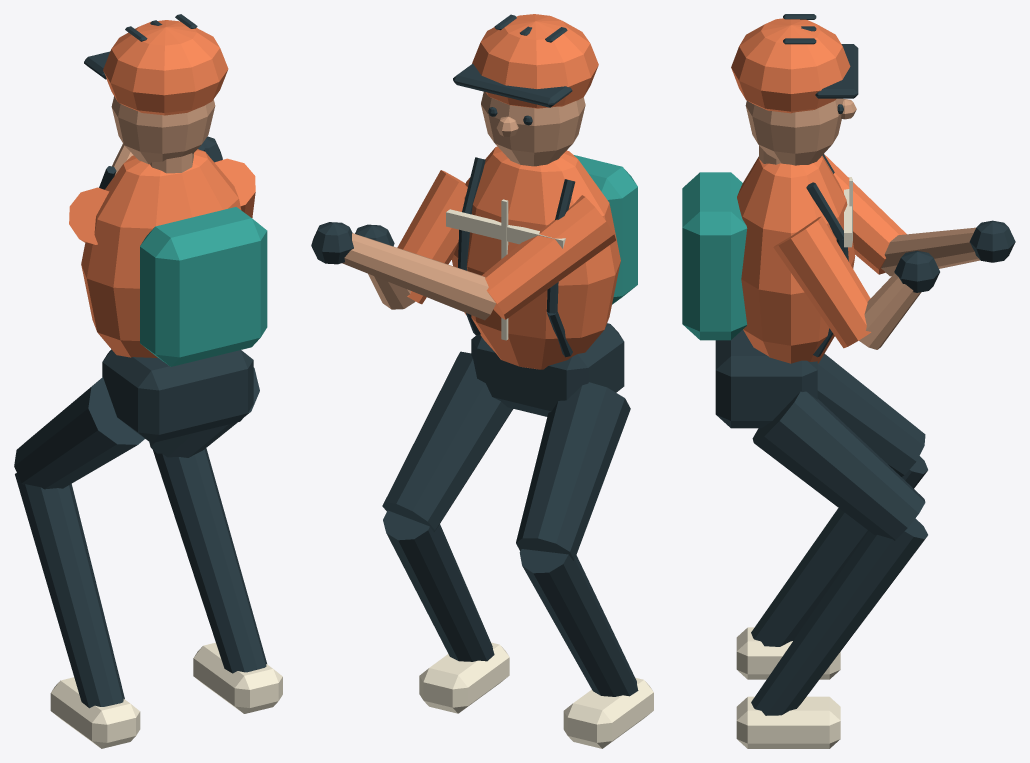
The model's file is gunner.glb.
3 renders of one model, left to right at view 1: azimuth 30°, elevation 25°; view 2: azimuth 150°, elevation 25°; view 3: azimuth 270°, elevation 25°, orthographic.
Parts seen in each view (by area): view 1: gunner.Torso_Teal, gunner.Torso_Orange, gunner.Knee_-1_Dark, gunner.Knee_1_Dark, gunner.Root_Dark, gunner.Head_Orange, gunner.Hip_-1_Dark, gunner.Head_Skin, gunner.Knee_-1_Cream, gunner.Knee_1_Cream, gunner.Hip_1_Dark, gunner.Shoulder_L_Orange (+2 smaller); view 2: gunner.Torso_Orange, gunner.Hip_-1_Dark, gunner.Hip_1_Dark, gunner.Knee_-1_Dark, gunner.Head_Orange, gunner.Knee_1_Dark, gunner.Shoulder_L_Orange, gunner.Root_Dark, gunner.Elbow_-1_Skin, gunner.Head_Skin, gunner.Knee_-1_Cream, gunner.Knee_1_Cream (+7 smaller); view 3: gunner.Torso_Orange, gunner.Hip_1_Dark, gunner.Knee_1_Dark, gunner.Torso_Teal, gunner.Head_Orange, gunner.Root_Dark, gunner.Knee_-1_Dark, gunner.Shoulder_R_Orange, gunner.Hip_-1_Dark, gunner.Head_Skin, gunner.Knee_1_Cream, gunner.Shoulder_L_Orange (+7 smaller).
Boxes of the visible parts, <box> form: gunner.Torso_Teal: <box>140,207,267,366</box>; gunner.Torso_Orange: <box>81,149,241,357</box>; gunner.Knee_-1_Dark: <box>15,473,124,708</box>; gunner.Knee_1_Dark: <box>153,448,266,673</box>; gunner.Root_Dark: <box>102,349,253,443</box>; gunner.Head_Orange: <box>103,20,228,115</box>; gunner.Hip_-1_Dark: <box>14,377,144,489</box>; gunner.Head_Skin: <box>111,96,215,173</box>; gunner.Knee_-1_Cream: <box>50,677,140,748</box>; gunner.Knee_1_Cream: <box>193,642,282,713</box>; gunner.Hip_1_Dark: <box>149,367,259,457</box>; gunner.Shoulder_L_Orange: <box>69,187,109,244</box>; gunner.Torso_Orange: <box>451,146,620,369</box>; gunner.Hip_-1_Dark: <box>516,382,630,560</box>; gunner.Hip_1_Dark: <box>382,351,513,532</box>; gunner.Knee_-1_Dark: <box>519,549,638,696</box>; gunner.Head_Orange: <box>472,14,598,108</box>; gunner.Knee_1_Dark: <box>383,510,494,661</box>; gunner.Shoulder_L_Orange: <box>482,195,615,319</box>; gunner.Root_Dark: <box>471,323,624,416</box>; gunner.Elbow_-1_Skin: <box>342,233,495,320</box>; gunner.Head_Skin: <box>481,91,585,166</box>; gunner.Knee_-1_Cream: <box>563,677,653,748</box>; gunner.Knee_1_Cream: <box>419,642,509,713</box>; gunner.Torso_Orange: <box>737,155,855,363</box>; gunner.Hip_1_Dark: <box>752,391,925,540</box>; gunner.Knee_1_Dark: <box>751,518,927,715</box>; gunner.Torso_Teal: <box>682,172,747,340</box>; gunner.Head_Orange: <box>731,18,850,113</box>; gunner.Root_Dark: <box>715,330,817,428</box>; gunner.Knee_-1_Dark: <box>751,456,927,646</box>; gunner.Shoulder_R_Orange: <box>773,216,870,348</box>; gunner.Hip_-1_Dark: <box>817,353,925,476</box>; gunner.Head_Skin: <box>745,98,856,165</box>; gunner.Knee_1_Cream: <box>736,696,840,748</box>; gunner.Shoulder_L_Orange: <box>824,154,906,274</box>.
Size of the model in its own units: 0.5545 by 1.7 by 0.752.
